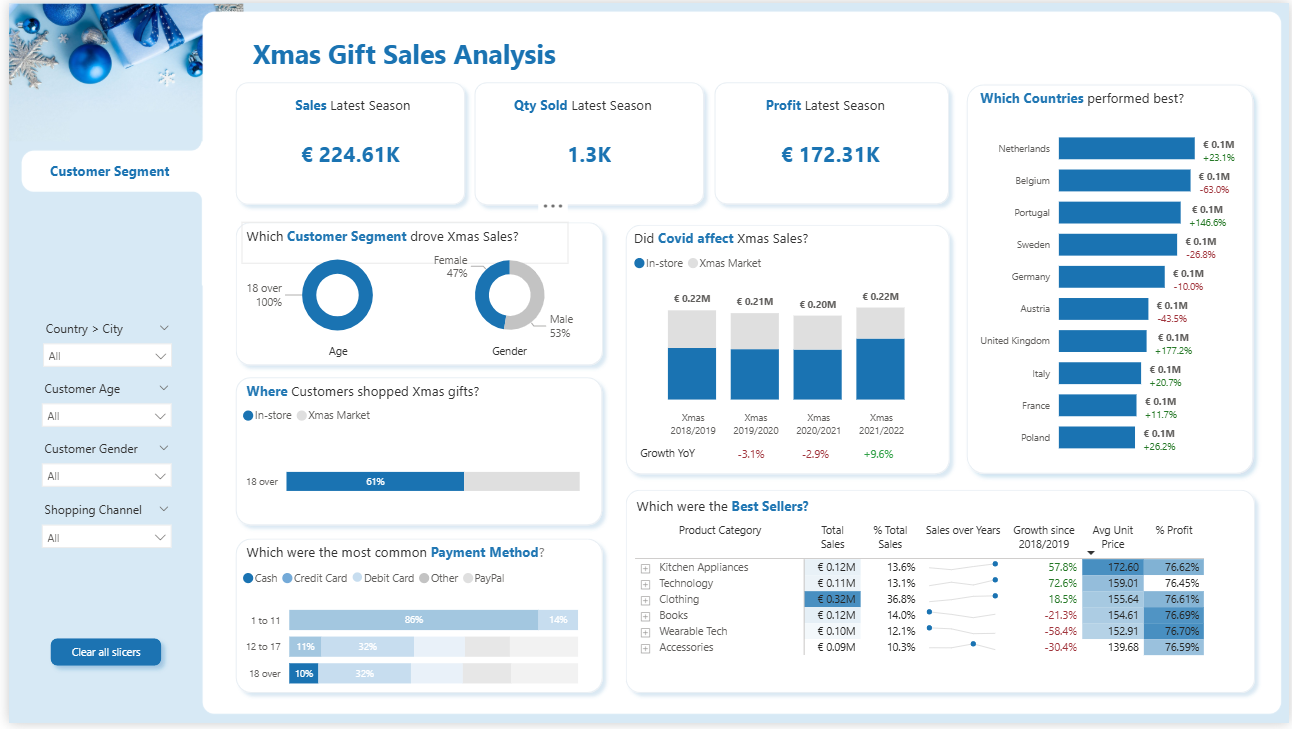

The dashboard page shown, as its layout file describes it:
{"tool":"powerbi","page":{"name":"Phân khúc khách hàng","canvas":[1280,720],"ordinal":0},"visuals":[{"type":"shape","box":[457.7,71.2,245.8,139],"z":0},{"type":"shape","box":[697.7,71.2,250.8,138.2],"z":1000},{"type":"shape","box":[218.6,211.6,382.8,158.9],"z":2000},{"type":"shape","box":[218.6,366.3,382.8,164.2],"z":3000},{"type":"shape","box":[218.6,527.7,382.8,170.3],"z":4000},{"type":"shape","box":[608.3,213.5,340.1,265.7],"z":5000},{"type":"shape","box":[608.3,479.2,645.5,219.3],"z":6000},{"type":"shape","box":[949.2,72,304.6,407.2],"z":7000},{"type":"textbox","box":[238.5,27.5,419.4,70.9],"z":8000},{"type":"shape","box":[218.5,71.2,245.4,138.5],"z":9000},{"type":"actionButton","box":[10.5,147.5,181.8,40.4],"z":10000},{"type":"textbox","box":[232.6,219.3,327.7,42.2],"z":12000},{"type":"textbox","box":[232.6,374.1,327.7,42.2],"z":13000},{"type":"textbox","box":[232.6,535.4,327.7,42.2],"z":14000},{"type":"textbox","box":[620.5,221,327.7,42.2],"z":15000},{"type":"textbox","box":[622.2,488.3,326.9,42.2],"z":16000},{"type":"textbox","box":[287.1,336.3,83.4,29.9],"z":17000},{"type":"textbox","box":[459.2,336.3,83.4,29.9],"z":18000},{"type":"textbox","box":[238.3,86.9,210.2,42.2],"z":19000},{"type":"textbox","box":[468.4,86.9,210.2,42.2],"z":20000},{"type":"textbox","box":[710.9,86.9,210.2,42.2],"z":21000},{"type":"slicer","fields":{"Values":["Xmas Dataset.Customer Age Range"]},"box":[22.3,372.4,149.8,69.5],"z":22000},{"type":"slicer","fields":{"Values":["Xmas Dataset.Country","Xmas Dataset.City"]},"box":[23.2,312.8,149,69.5],"z":23000},{"type":"slicer","fields":{"Values":["Xmas Dataset.Purchase Type"]},"box":[22.3,493.2,149.8,69.5],"z":24000},{"type":"slicer","fields":{"Values":["Xmas Dataset.Gender"]},"box":[22.3,432,149.8,69.5],"z":25000},{"type":"pivotTable","fields":{"Values":["Countries.Sales","Divide(Countries.Sales, ScopedEval(Countries.Sales, []))","SparklineData(Sum(Xmas Dataset.Total Sales)_[Dim_Date.Xmas Season])","Countries.Delta Sales 21 18 Table","Avg(Xmas Dataset.Unit Price)","Countries.% Profit"],"Rows":["Xmas Dataset.Product Category","Xmas Dataset.Product Name"]},"box":[621.6,513.9,614.2,173.4],"z":26000},{"type":"hundredPercentStackedBarChart","fields":{"Category":["Xmas Dataset.Customer Age Range"],"Y":["Sum(Xmas Dataset.Total Sales)"],"Series":["Xmas Dataset.Purchase Type"]},"box":[229.2,394.2,347.7,135.2],"z":27000},{"type":"hundredPercentStackedBarChart","fields":{"Category":["Xmas Dataset.Customer Age Range"],"Y":["Sum(Xmas Dataset.Total Sales)"],"Series":["Xmas Dataset.Payment Method"]},"box":[229.2,555.8,347.7,141.4],"z":28000},{"type":"donutChart","title":"Which Customer Age Range drive Xmas Sales?","fields":{"Category":["Xmas Dataset.Customer Age Range"],"Y":["Sum(Xmas Dataset.Total Sales)"]},"box":[232.7,241.6,192.3,101.9],"z":29000},{"type":"donutChart","title":"Which Customer Age Range drive Xmas Sales?","fields":{"Y":["Sum(Xmas Dataset.Total Sales)"],"Category":["Xmas Dataset.Gender"]},"box":[418.8,241.6,164.2,101.9],"z":30000},{"type":"textbox","box":[626.5,437.8,93.5,29],"z":31000},{"type":"tableEx","fields":{"Values":["Countries.Delta Sales 19 18","Countries.Delta Sales 20 19","Countries.Delta Sales 21 20"]},"box":[717.8,416.2,209.9,63.9],"z":32000},{"type":"columnChart","fields":{"Category":["Dim_Date.Xmas Season"],"Y":["Countries.Sales"],"Series":["Xmas Dataset.Purchase Type"]},"box":[620.5,241.7,308.7,200.3],"z":33000},{"type":"textbox","box":[966.6,81.1,310.3,42.2],"z":34000},{"type":"clusteredBarChart","fields":{"Category":["Xmas Dataset.Country","Xmas Dataset.City"],"Y":["Countries.Sales"]},"box":[960,108.4,270.6,355],"z":35000},{"type":"actionButton","box":[33.1,626.5,129.1,45.5],"z":36000},{"type":"cardVisual","fields":{"Data":["Measure.Sales 21"]},"box":[225.9,91.9,230.1,110.1],"z":37000},{"type":"cardVisual","fields":{"Data":["Measure.Unit Sold 21"]},"box":[468.4,91.9,223.4,110.1],"z":38000},{"type":"cardVisual","fields":{"Data":["Measure.Profit 21"]},"box":[706.8,91.9,230.9,110.1],"z":39000}]}

Visuals, with their boxes in screenshot pixels (x1, y1, x2, y2), scaled from the page's 1280x720 canvas onto the 1292x729 screenshot:
shape: l=462, t=72, r=710, b=213
shape: l=704, t=72, r=957, b=212
shape: l=221, t=214, r=607, b=375
shape: l=221, t=371, r=607, b=537
shape: l=221, t=534, r=607, b=707
shape: l=614, t=216, r=957, b=485
shape: l=614, t=485, r=1266, b=707
shape: l=958, t=73, r=1266, b=485
textbox: l=241, t=28, r=664, b=100
shape: l=221, t=72, r=468, b=212
actionButton: l=11, t=149, r=194, b=190
textbox: l=235, t=222, r=566, b=265
textbox: l=235, t=379, r=566, b=422
textbox: l=235, t=542, r=566, b=585
textbox: l=626, t=224, r=957, b=266
textbox: l=628, t=494, r=958, b=537
textbox: l=290, t=341, r=374, b=371
textbox: l=464, t=341, r=548, b=371
textbox: l=241, t=88, r=453, b=131
textbox: l=473, t=88, r=685, b=131
textbox: l=718, t=88, r=930, b=131
slicer - Xmas Dataset.Customer Age Range: l=23, t=377, r=174, b=447
slicer - Xmas Dataset.Country x Xmas Dataset.City: l=23, t=317, r=174, b=387
slicer - Xmas Dataset.Purchase Type: l=23, t=499, r=174, b=570
slicer - Xmas Dataset.Gender: l=23, t=437, r=174, b=508
pivotTable - Countries.Sales x Divide(Countries.Sales, ScopedEval(Countries.Sales, [])): l=627, t=520, r=1247, b=696
hundredPercentStackedBarChart - Xmas Dataset.Customer Age Range x Sum(Xmas Dataset.Total Sales): l=231, t=399, r=582, b=536
hundredPercentStackedBarChart - Xmas Dataset.Customer Age Range x Sum(Xmas Dataset.Total Sales): l=231, t=563, r=582, b=706
"Which Customer Age Range drive Xmas Sales?" donutChart: l=235, t=245, r=429, b=348
"Which Customer Age Range drive Xmas Sales?" donutChart: l=423, t=245, r=588, b=348
textbox: l=632, t=443, r=727, b=473
tableEx - Countries.Delta Sales 19 18 x Countries.Delta Sales 20 19: l=725, t=421, r=936, b=486
columnChart - Dim_Date.Xmas Season x Countries.Sales: l=626, t=245, r=938, b=448
textbox: l=976, t=82, r=1289, b=125
clusteredBarChart - Xmas Dataset.Country x Xmas Dataset.City: l=969, t=110, r=1242, b=469
actionButton: l=33, t=634, r=164, b=680
cardVisual - Measure.Sales 21: l=228, t=93, r=460, b=205
cardVisual - Measure.Unit Sold 21: l=473, t=93, r=698, b=205
cardVisual - Measure.Profit 21: l=713, t=93, r=946, b=205
